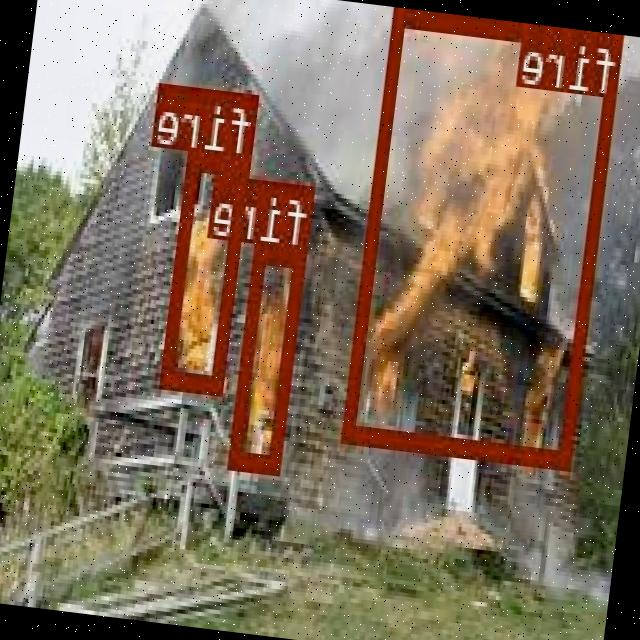fire: (344, 7, 626, 464), (162, 149, 254, 393), (231, 241, 310, 469)
